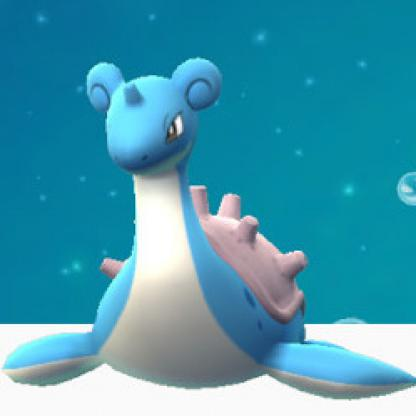Lapras: (1, 31, 416, 409)
